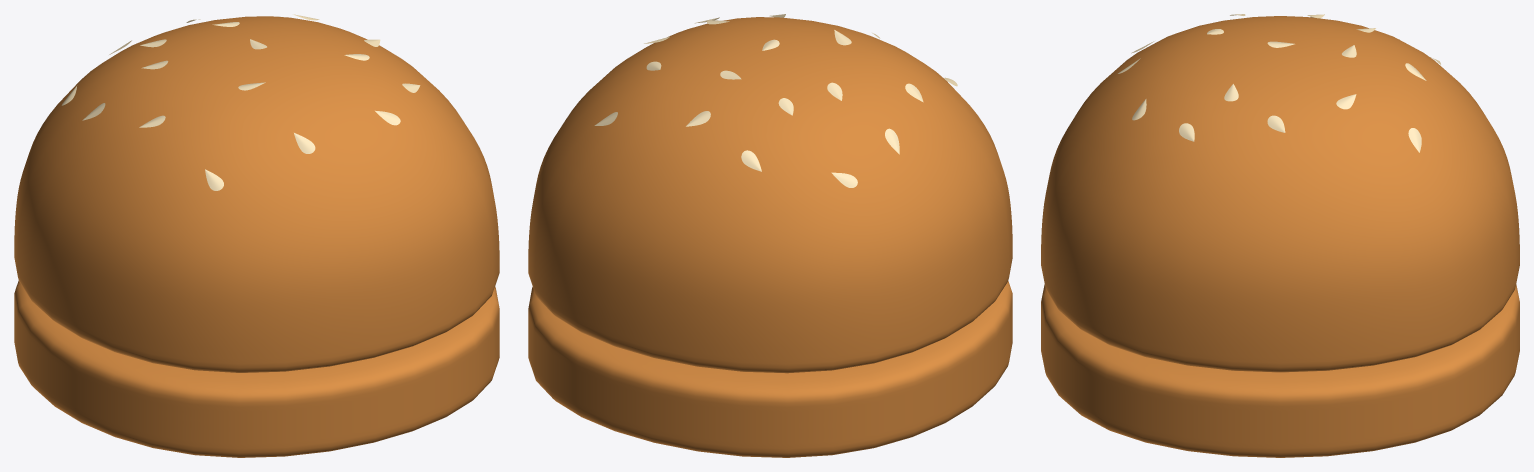
File: bread.glb
3 renders of one model, left to right at view 1: azimuth 30°, elevation 25°; view 2: azimuth 150°, elevation 25°; view 3: azimuth 270°, elevation 25°, orthographic.
Visible parts, largest first — view 1: Burger steak; view 2: Burger steak; view 3: Burger steak.
Boxes of the visible parts, bbox=[...] form: Burger steak: bbox=[14, 14, 499, 457]; Burger steak: bbox=[528, 14, 1012, 457]; Burger steak: bbox=[1041, 14, 1519, 457].
Bounding box in the file's own units: 1.2 × 0.9027 × 1.2.
